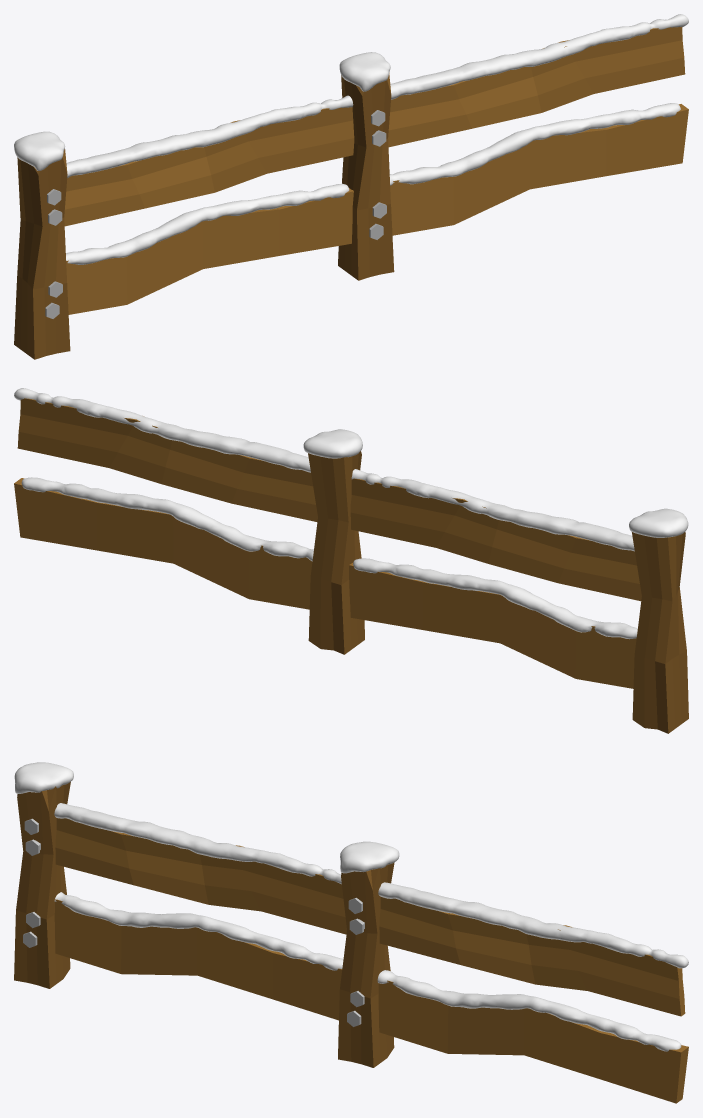
Rendered from fenceToBlock.fbx.
3 views of the same model, one above another, from view 1: azimuth 30°, elevation 25°; view 2: azimuth 150°, elevation 25°; view 3: azimuth 330°, elevation 25° (orthographic).
Visible parts, largest first — view 1: Xaxis.001, Xaxis, Yaxis, SnowBall.005, SnowBall.007, SnowBall.001; view 2: Xaxis.001, Xaxis, Yaxis, SnowBall.005, SnowBall.007, SnowBall.001; view 3: Xaxis.001, Xaxis, Yaxis, SnowBall.005, SnowBall.007, SnowBall.001.
Boxes of the visible parts, left/top/right/bottom form: Xaxis.001: left=64, top=27, right=685, bottom=226; Xaxis: left=66, top=104, right=688, bottom=314; Yaxis: left=14, top=72, right=394, bottom=359; SnowBall.005: left=66, top=14, right=688, bottom=177; SnowBall.007: left=66, top=103, right=680, bottom=264; SnowBall.001: left=14, top=52, right=390, bottom=170; Xaxis.001: left=17, top=398, right=641, bottom=601; Xaxis: left=14, top=478, right=636, bottom=688; Yaxis: left=308, top=451, right=688, bottom=733; SnowBall.005: left=14, top=388, right=634, bottom=551; SnowBall.007: left=21, top=477, right=637, bottom=639; SnowBall.001: left=303, top=429, right=688, bottom=537; Xaxis.001: left=55, top=818, right=685, bottom=1016; Xaxis: left=54, top=899, right=688, bottom=1103; Yaxis: left=14, top=782, right=394, bottom=1067; SnowBall.005: left=54, top=803, right=688, bottom=968; SnowBall.007: left=54, top=892, right=681, bottom=1051; SnowBall.001: left=14, top=762, right=399, bottom=873.
Bounding box in the file's own units: 98.3 × 29.01 × 6.74.
